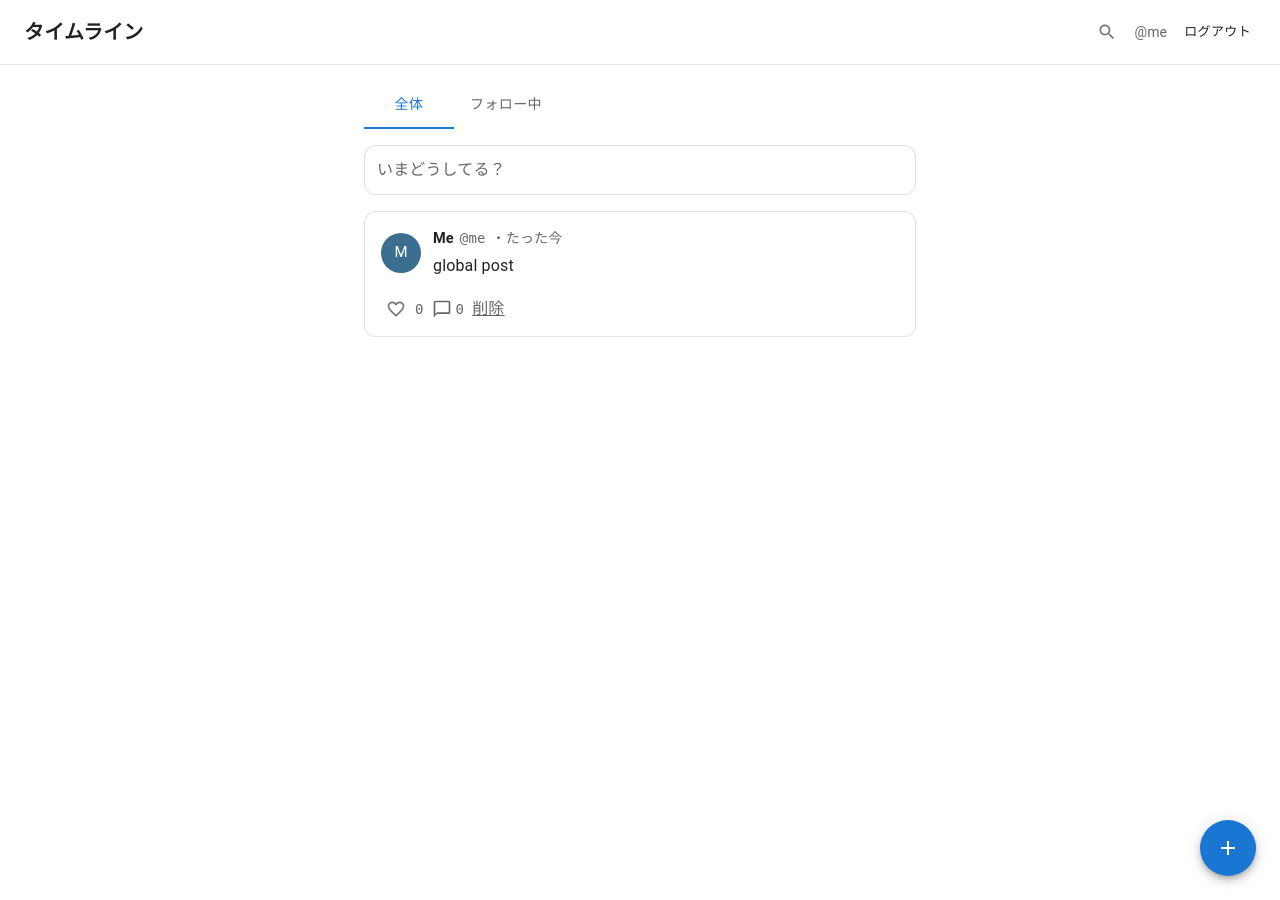
Test case: TimelinePage › switches back to the all-users timeline correctly after viewing the following tab
expect the text "global post" is shown: met, box [433,256,514,275]
Click the tab "フォロー中" at (506, 105), box [454,81,558,129]
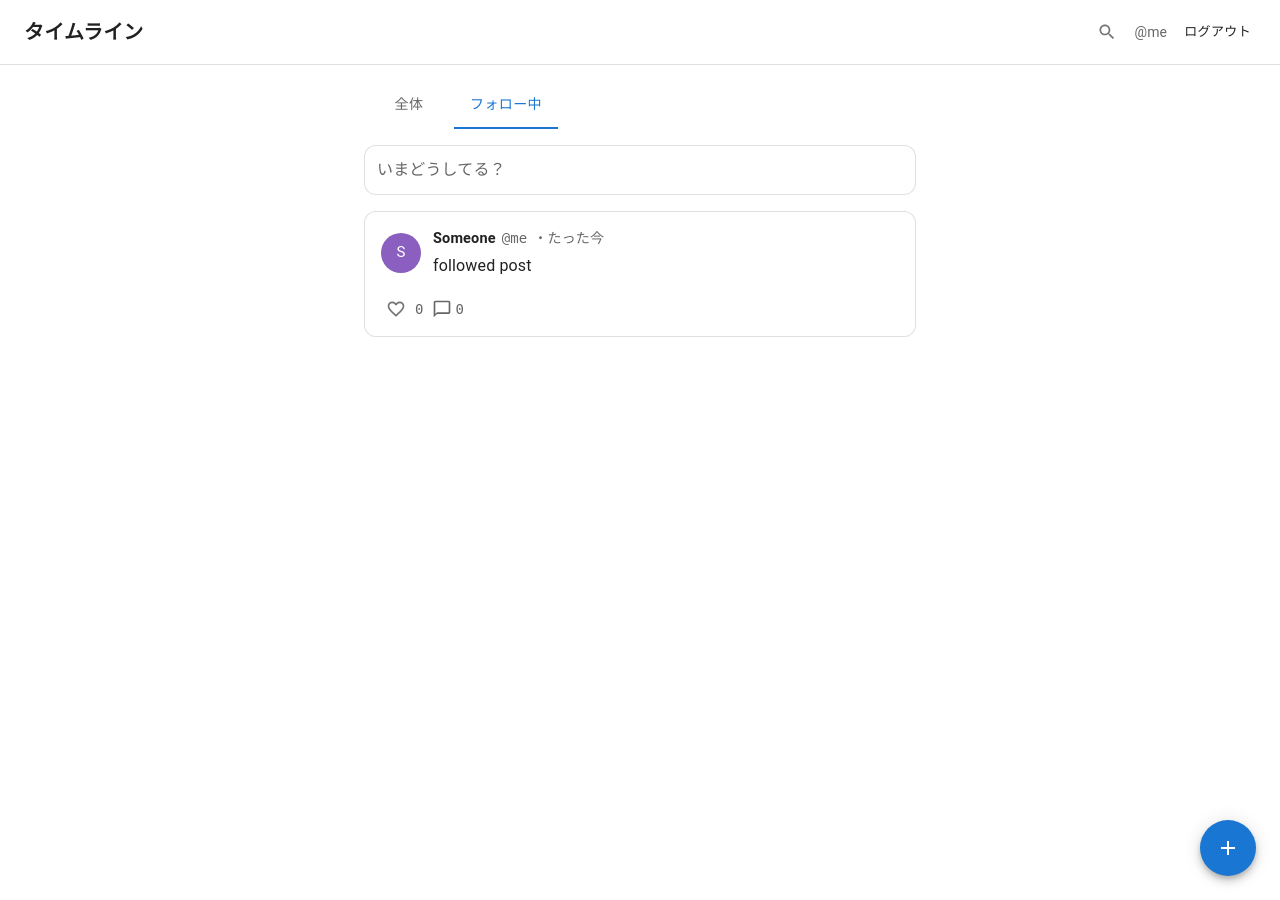
expect the text "followed post" is shown: met, box [433,256,532,275]
Click the tab "全体" at (409, 105), box [364,81,454,129]
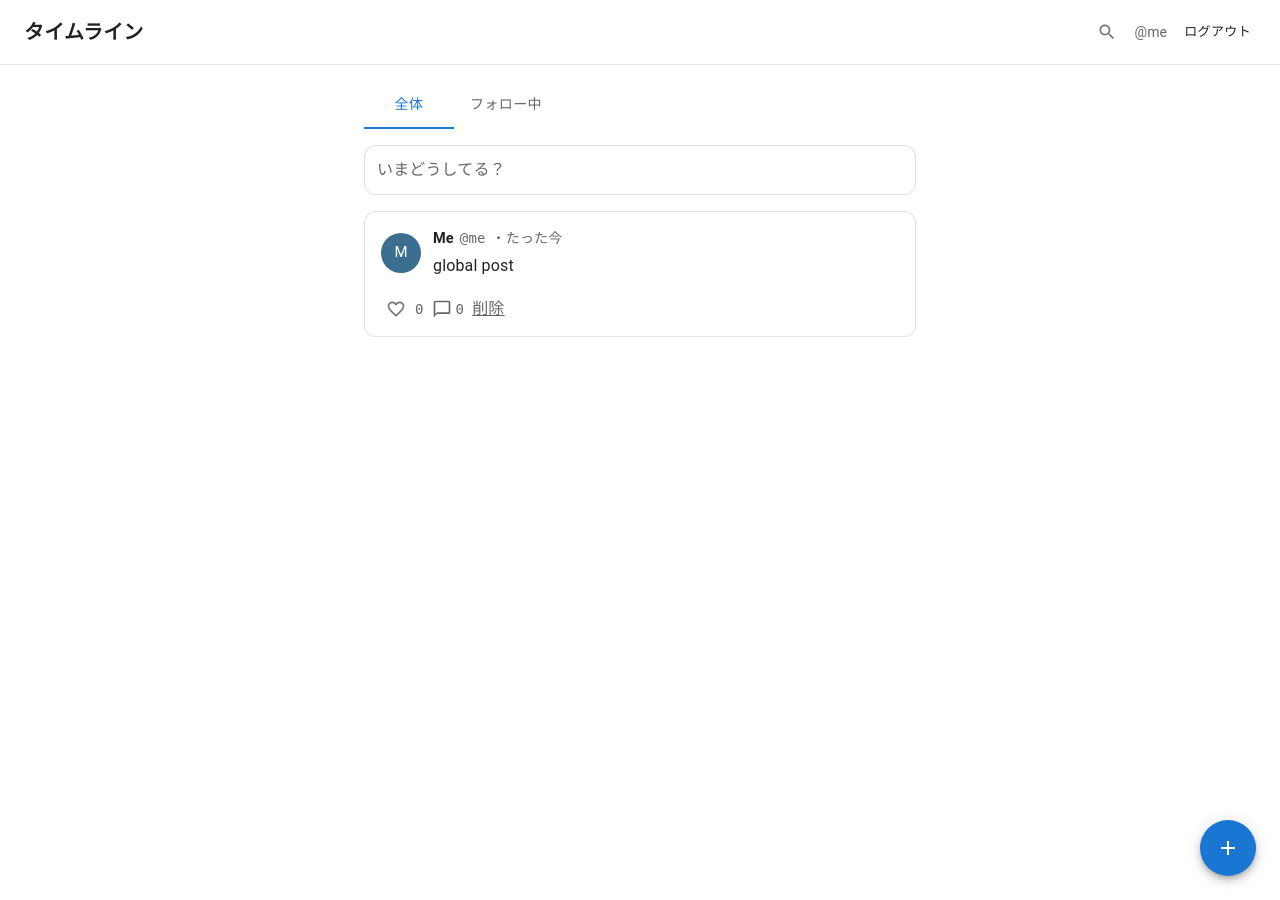
expect the text "global post" is shown: met, box [433,256,514,275]
expect the button "followed post" is gone: met
